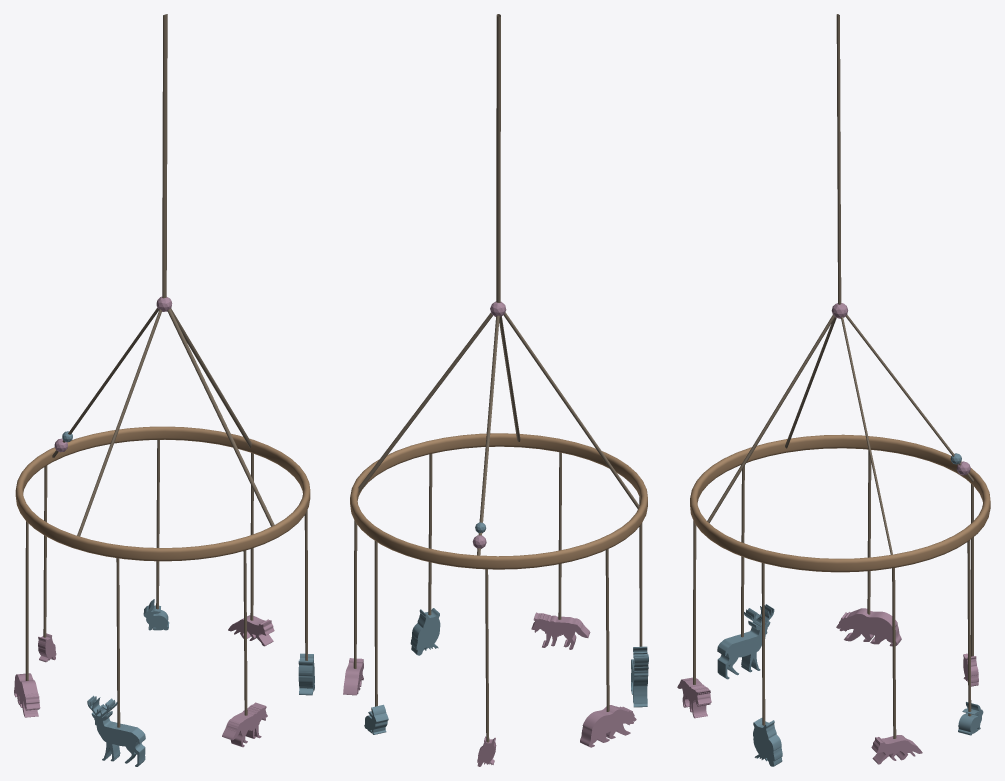
The model's file is Mobile.fbx.
3 views of the same model, side by side, from view 1: azimuth 30°, elevation 25°; view 2: azimuth 150°, elevation 25°; view 3: azimuth 270°, elevation 25° (orthographic).
Visible parts, largest first — view 1: Mobile; view 2: Mobile; view 3: Mobile.
Part boxes in pixels (x1=…): Mobile: x1=14, y1=14, x2=314, y2=766; Mobile: x1=343, y1=14, x2=648, y2=766; Mobile: x1=677, y1=14, x2=990, y2=766.
Size of the model in its own units: 175 by 434 by 175.
